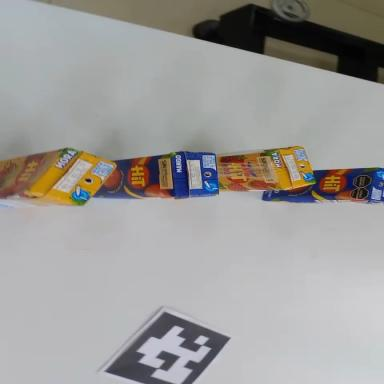HIT-MANGO: (92, 149, 218, 204), (262, 168, 383, 204)
HIT-MORA: (1, 147, 114, 206), (217, 147, 314, 191)
cara_F: (0, 143, 76, 199), (91, 153, 177, 197), (262, 168, 375, 200), (216, 151, 283, 190)
